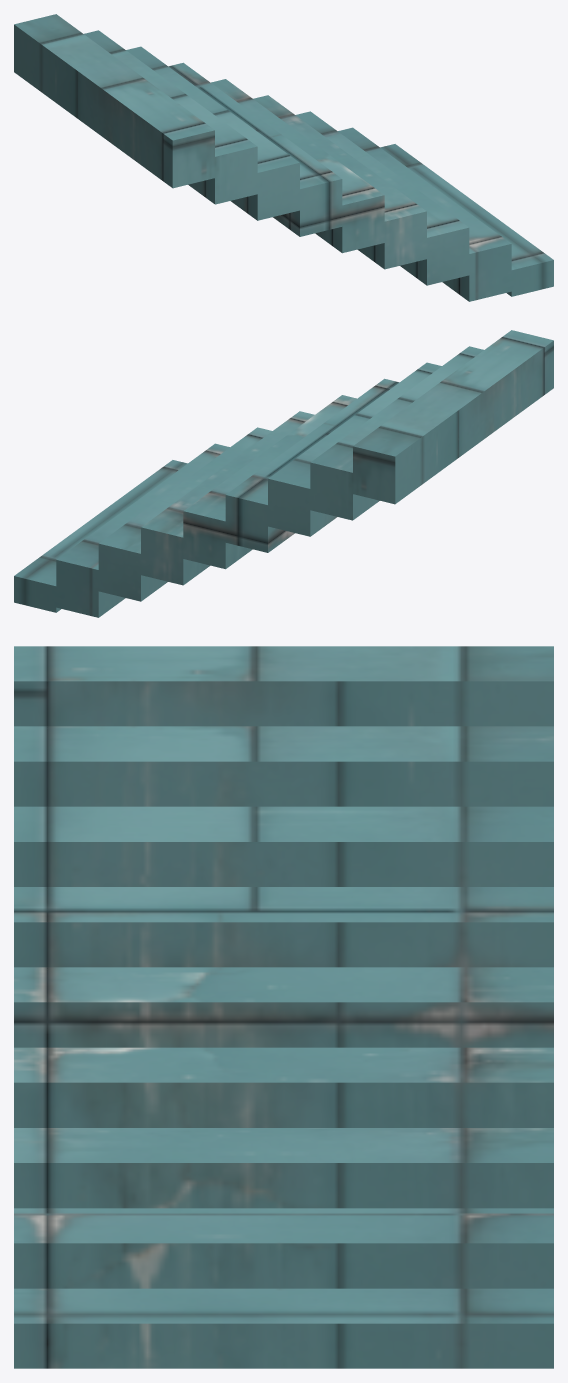
The model's file is brutalist-building-2-cbake.s2.stairs.glb.
3 renders of one model, top to bottom at view 1: azimuth 30°, elevation 25°; view 2: azimuth 150°, elevation 25°; view 3: azimuth 270°, elevation 25°, orthographic. The views are drawn at different scales.
Parts seen in each view (by area): view 1: stairs; view 2: stairs; view 3: stairs.
Part boxes in pixels (box(x1,y1,x2,y2)): stairs: box(14, 14, 553, 301); stairs: box(14, 330, 553, 617); stairs: box(14, 646, 553, 1368).
Bounding box in the file's own units: 2.5 × 1.5 × 1.81.
Materials: 1 (1 with a texture image).
